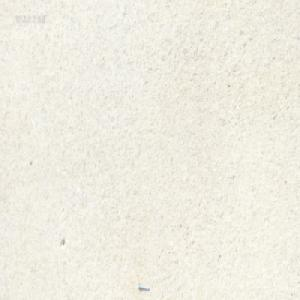Nail: (137, 282, 149, 291)
